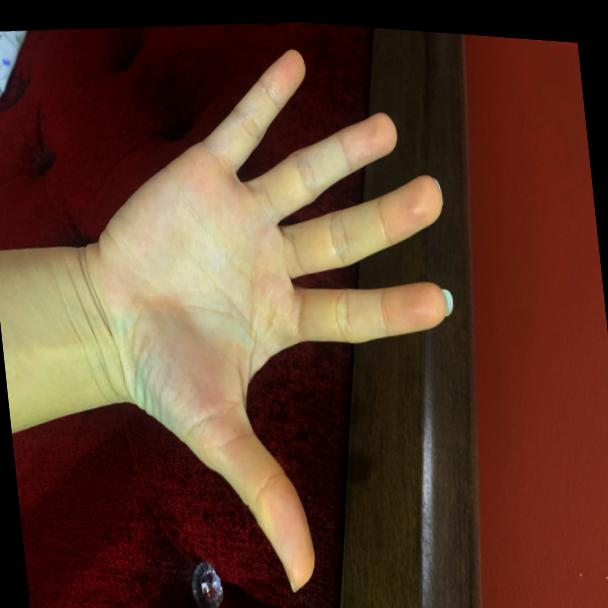five: (72, 17, 483, 608)
